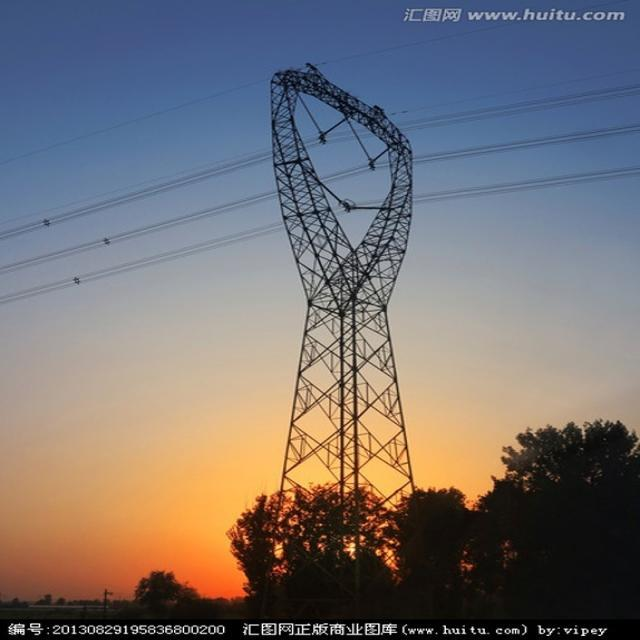non-critical vegetation: (244, 61, 446, 541)
